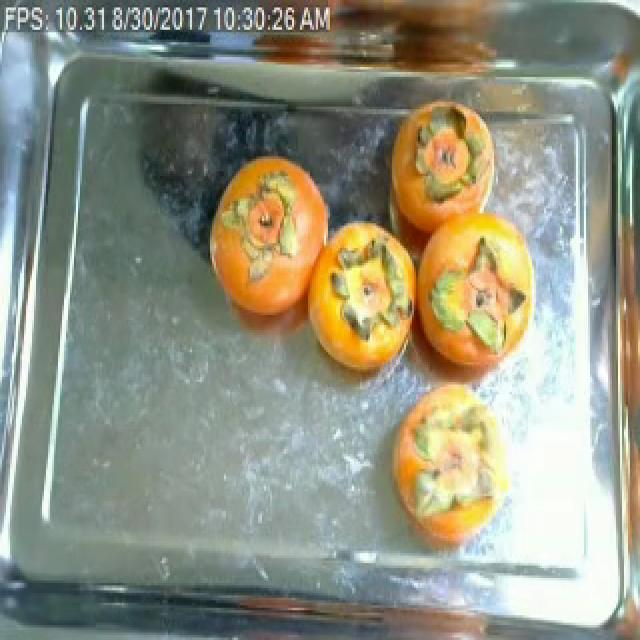Fruit: (192, 141, 334, 330), (460, 194, 542, 372), (404, 87, 506, 226)
